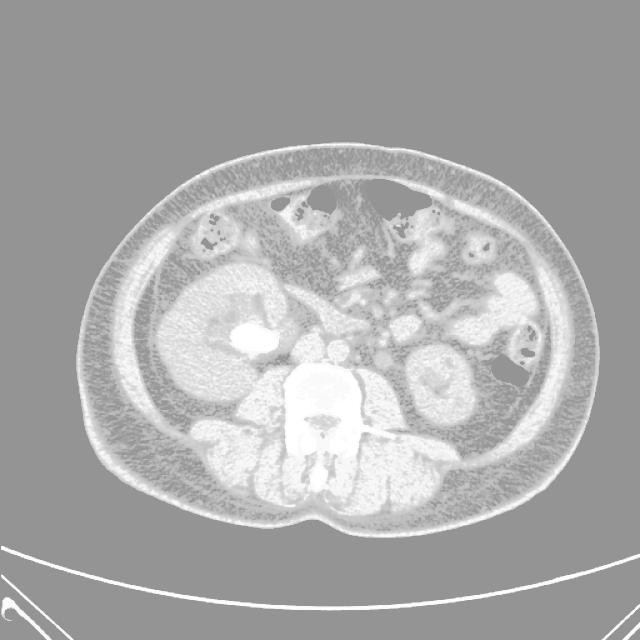STONE: (170, 125, 524, 363)
